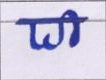i_matra: (64, 10, 79, 46)
